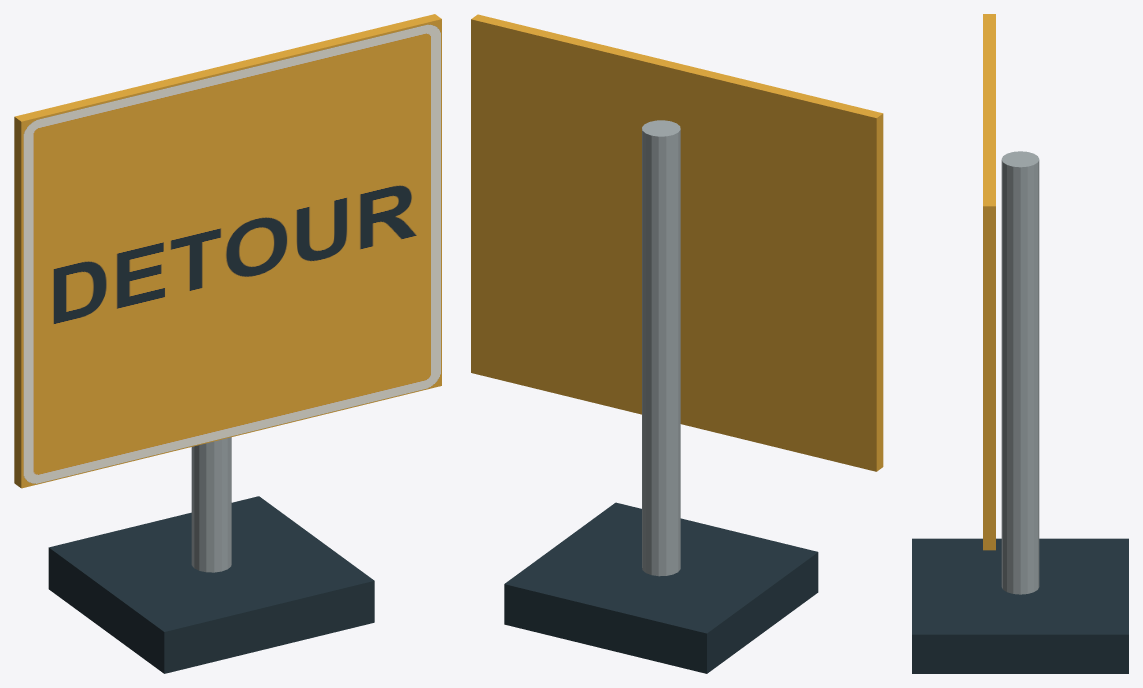
The model's file is scendance-plan-detour.glb.
3 views of the same model, side by side, from view 1: azimuth 30°, elevation 25°; view 2: azimuth 150°, elevation 25°; view 3: azimuth 270°, elevation 25° (orthographic). The views are drawn at different scales.
Size of the model in its own units: 0.84 by 1.05 by 0.4.
4 materials, 1 textured.
